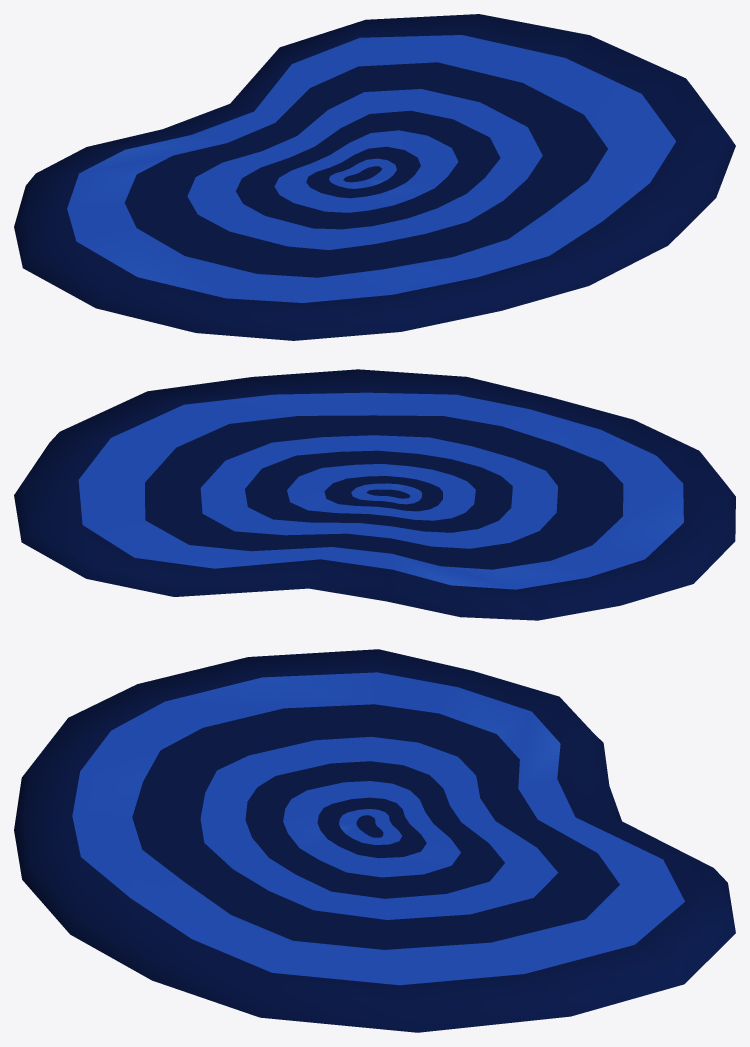
Rendered from Rug.fbx.
The picture shows the model from 3 angles, top to bottom: view 1: azimuth 30°, elevation 25°; view 2: azimuth 150°, elevation 25°; view 3: azimuth 270°, elevation 25°; orthographic projection. The views are drawn at different scales.
Parts seen in each view (by area): view 1: Rug; view 2: Rug; view 3: Rug.
Part boxes in pixels (left/top/right/bottom): Rug: left=14, top=14, right=735, bottom=340; Rug: left=14, top=369, right=735, bottom=620; Rug: left=14, top=649, right=735, bottom=1032.
Bounding box in the file's own units: 137 × 2.64 × 112.
